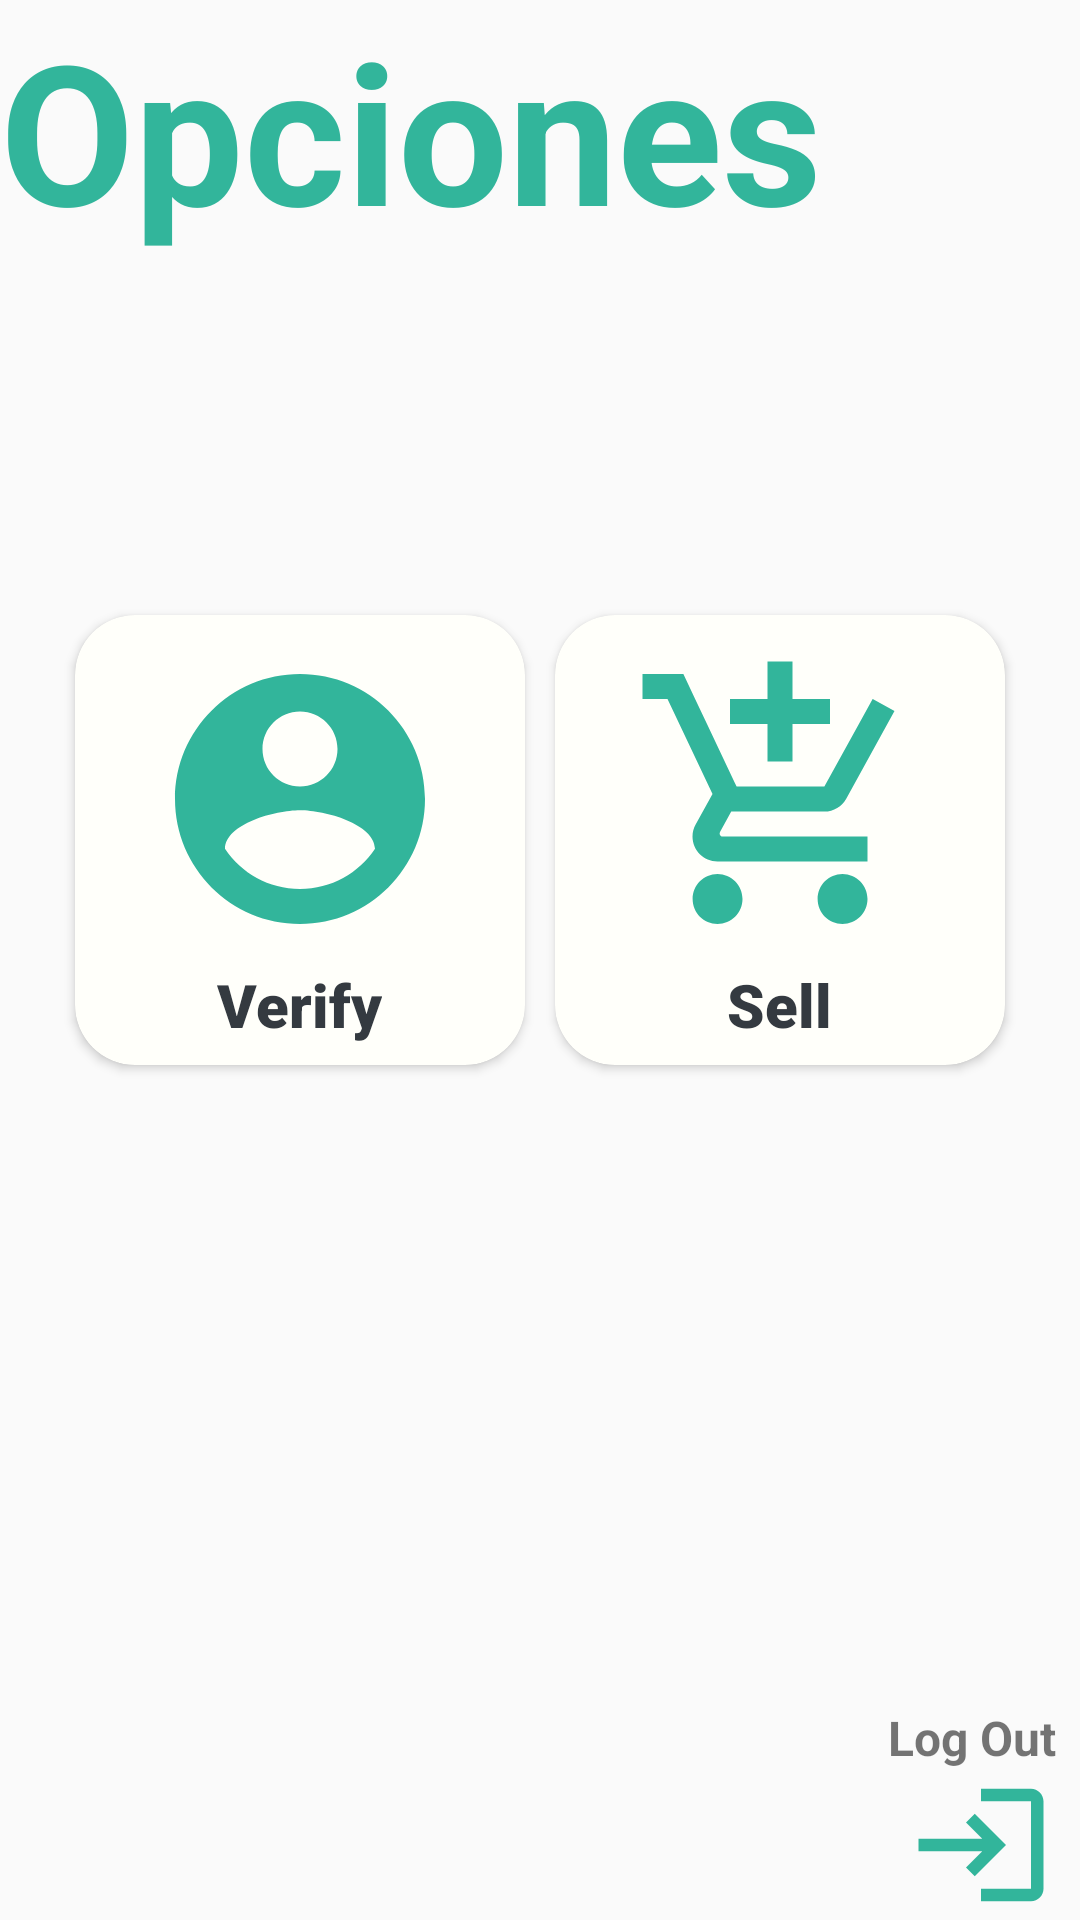

Point at icon controls on the screen. Image size 1080w x 1920h, points as [x,y].
account circle: [300,799]
add shopping cart: [768,792]
login: [981,1845]
